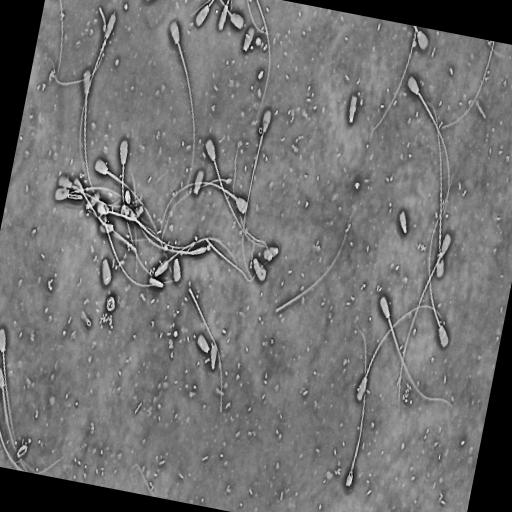coiled-tail: (253, 258, 264, 278), (259, 266, 263, 276)
dirt-particles: (105, 293, 117, 313), (344, 470, 353, 487), (257, 69, 264, 82)
folded-tail: (155, 237, 236, 276)
loose-head: (241, 23, 256, 53), (347, 91, 360, 125), (192, 168, 205, 197), (100, 257, 112, 287), (397, 207, 408, 237), (262, 244, 280, 262), (196, 333, 210, 356), (172, 256, 182, 285), (209, 342, 218, 372)
loose-tail: (269, 208, 355, 322), (367, 26, 418, 143), (434, 41, 497, 133), (185, 280, 225, 420), (44, 5, 107, 87), (204, 235, 273, 283), (254, 0, 273, 121)
normal: (353, 301, 447, 407), (397, 233, 452, 410), (379, 295, 454, 408), (204, 135, 273, 250), (404, 73, 451, 223), (130, 169, 207, 258), (78, 10, 117, 174), (241, 106, 273, 281), (158, 180, 250, 235), (427, 172, 455, 352), (119, 139, 155, 277), (94, 158, 157, 233), (170, 21, 195, 172), (154, 236, 238, 279), (428, 99, 446, 280), (0, 366, 30, 472), (0, 326, 18, 449), (0, 416, 26, 472), (252, 257, 267, 283)
proximal-droplet: (439, 252, 443, 258), (103, 41, 106, 48)
